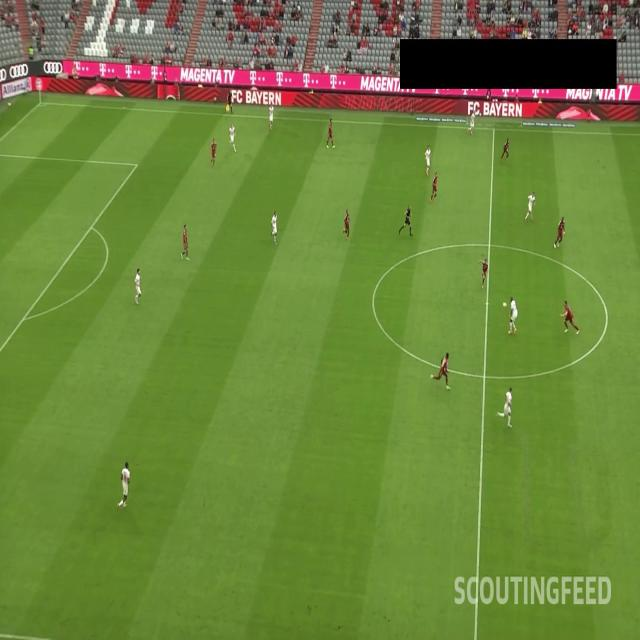ball: (502, 298, 508, 312)
player: (493, 384, 517, 432), (430, 345, 451, 392), (559, 294, 580, 338), (117, 459, 134, 512), (552, 212, 567, 252), (506, 291, 519, 336), (179, 219, 191, 265), (267, 206, 280, 248), (522, 188, 538, 222), (476, 251, 489, 292), (324, 113, 336, 150), (206, 135, 219, 169), (134, 262, 144, 305), (466, 108, 481, 136), (499, 132, 512, 164), (227, 120, 239, 154), (428, 170, 440, 204), (339, 208, 351, 240), (424, 140, 432, 178), (266, 101, 276, 131)
referee: (397, 201, 413, 238), (225, 89, 235, 116)
